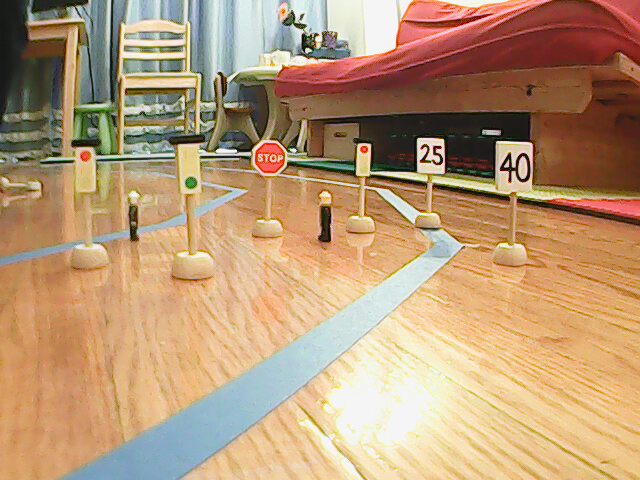Green Traffic Light: (171, 136, 205, 194)
Person: (126, 191, 143, 244), (318, 189, 334, 244)
Red Traffic Light: (70, 138, 104, 196), (353, 136, 376, 179)
Speed Limit 25: (415, 137, 446, 178)
Speed Limit 40: (494, 139, 533, 193)
Stop Sign: (250, 140, 289, 179)
